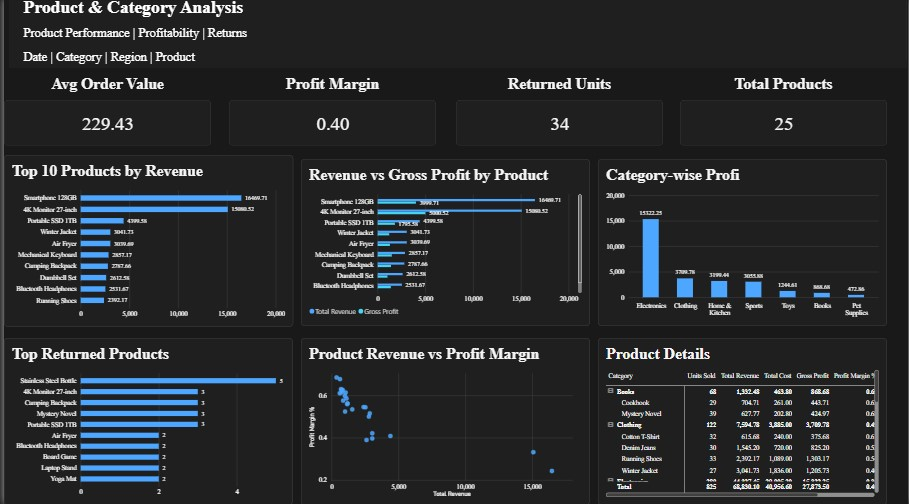

The dashboard page shown, as its layout file describes it:
{"tool":"powerbi","page":{"name":"Page 2","canvas":[1920,1080],"ordinal":1},"visuals":[{"type":"shape","box":[10.6,0,1909.1,133.9],"z":0},{"type":"textbox","box":[10.6,0,1909.1,150.9],"z":1000},{"type":"cardVisual","title":"Avg Order Value","fields":{"Data":["_Measures.Average Order Value"]},"box":[0,166.3,440,150],"z":2000},{"type":"cardVisual","title":"Profit Margin","fields":{"Data":["_Measures.Profit Margin %"]},"box":[478.7,166.3,440,150],"z":3000},{"type":"cardVisual","title":"Returned Units","fields":{"Data":["_Measures.Returned Units"]},"box":[960,166.3,440,150],"z":4000},{"type":"cardVisual","title":"Total Products","fields":{"Data":["_Measures.Total Products"]},"box":[1436.2,166.3,440,150],"z":5000},{"type":"clusteredBarChart","title":"Top 10 Products by Revenue","fields":{"Category":["Products.ProductName"],"Y":["_Measures.Total Revenue"]},"box":[0,335.1,614.8,365],"z":6000},{"type":"clusteredBarChart","title":"Revenue vs Gross Profit by Product","fields":{"Category":["Products.ProductName"],"Y":["_Measures.Total Revenue","_Measures.Gross Profit"]},"box":[632.4,345.2,614,355],"z":7000},{"type":"clusteredColumnChart","title":"Category-wise Profi","fields":{"Category":["Products.Category"],"Y":["_Measures.Gross Profit"]},"box":[1262.4,345.2,614,355],"z":8000},{"type":"clusteredBarChart","title":"Top Returned Products","fields":{"Category":["Products.ProductName"],"Y":["_Measures.Returned Units"]},"box":[0,725.7,614,355],"z":9000},{"type":"scatterChart","title":"Product Revenue vs Profit Margin","fields":{"Category":["Products.ProductName"],"X":["_Measures.Total Revenue"],"Y":["_Measures.Profit Margin %"]},"box":[632.4,725.7,614,355],"z":10000},{"type":"pivotTable","title":"Product Details","fields":{"Rows":["Products.Category","Products.ProductName"],"Values":["_Measures.Units Sold","_Measures.Total Revenue","_Measures.Total Cost","_Measures.Gross Profit","_Measures.Profit Margin %","_Measures.Returned Units"]},"box":[1262.4,725.7,614,355],"z":11000}]}

Visuals, with their boxes in screenshot pixels (x1, y1, x2, y2), scaled from the page's 1920x1080 canvas onto the 909x504 screenshot:
shape: crop(5, 0, 908, 62)
textbox: crop(5, 0, 908, 70)
"Avg Order Value" cardVisual: crop(0, 78, 208, 148)
"Profit Margin" cardVisual: crop(227, 78, 435, 148)
"Returned Units" cardVisual: crop(454, 78, 663, 148)
"Total Products" cardVisual: crop(680, 78, 888, 148)
"Top 10 Products by Revenue" clusteredBarChart: crop(0, 156, 291, 327)
"Revenue vs Gross Profit by Product" clusteredBarChart: crop(299, 161, 590, 327)
"Category-wise Profi" clusteredColumnChart: crop(598, 161, 888, 327)
"Top Returned Products" clusteredBarChart: crop(0, 339, 291, 503)
"Product Revenue vs Profit Margin" scatterChart: crop(299, 339, 590, 503)
"Product Details" pivotTable: crop(598, 339, 888, 503)
